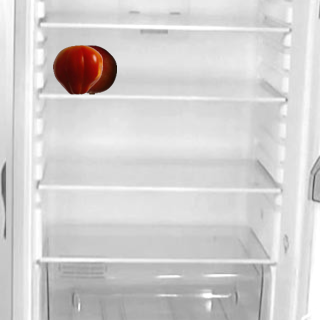Apple Braeburn: (66, 44, 116, 94)
Tomato 1: (52, 44, 102, 94)
